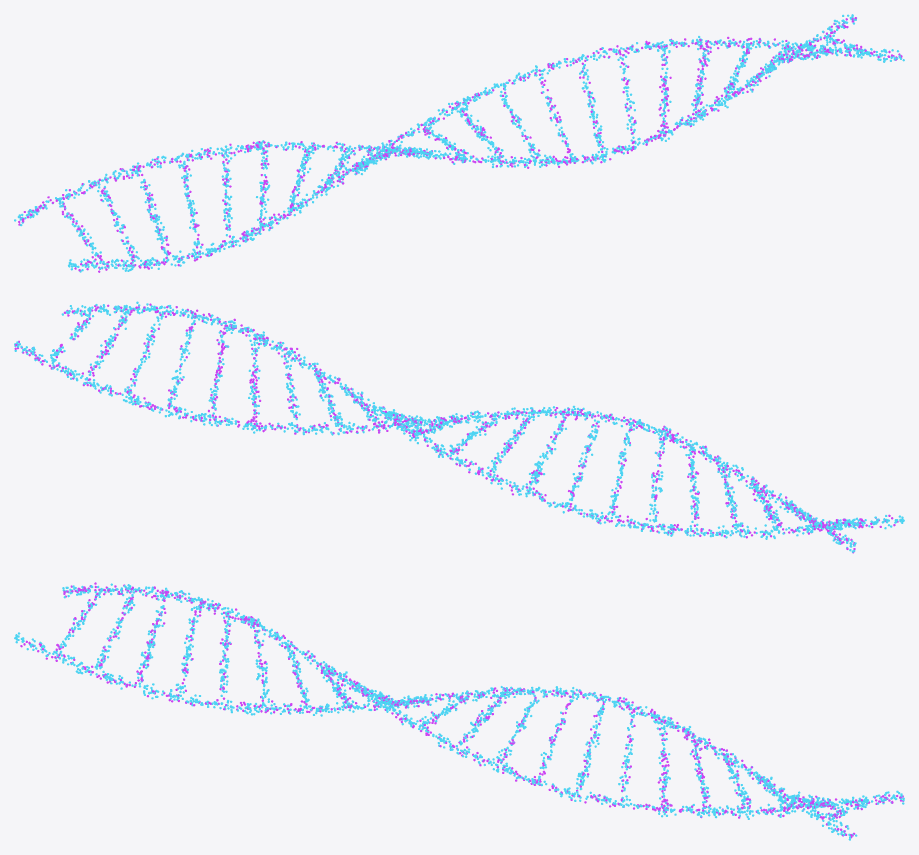
The model's file is dna_hologram.glb.
The picture shows the model from 3 angles, top to bottom: view 1: azimuth 30°, elevation 25°; view 2: azimuth 150°, elevation 25°; view 3: azimuth 330°, elevation 25°; orthographic projection.
Visible parts, largest first — view 1: Sphere.3514; view 2: Sphere.3514; view 3: Sphere.3514.
Boxes of the visible parts, x1,y1,x2,y2 form: Sphere.3514: (14,14,904,272); Sphere.3514: (14,301,904,553); Sphere.3514: (14,582,904,840).
Bounding box in the file's own units: 0.8733 × 0.1023 × 0.1024.
